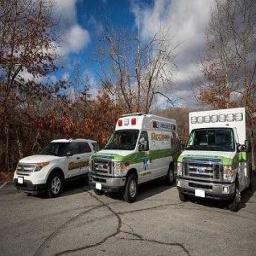Ambulance: (89, 113, 177, 201), (177, 108, 251, 210)
